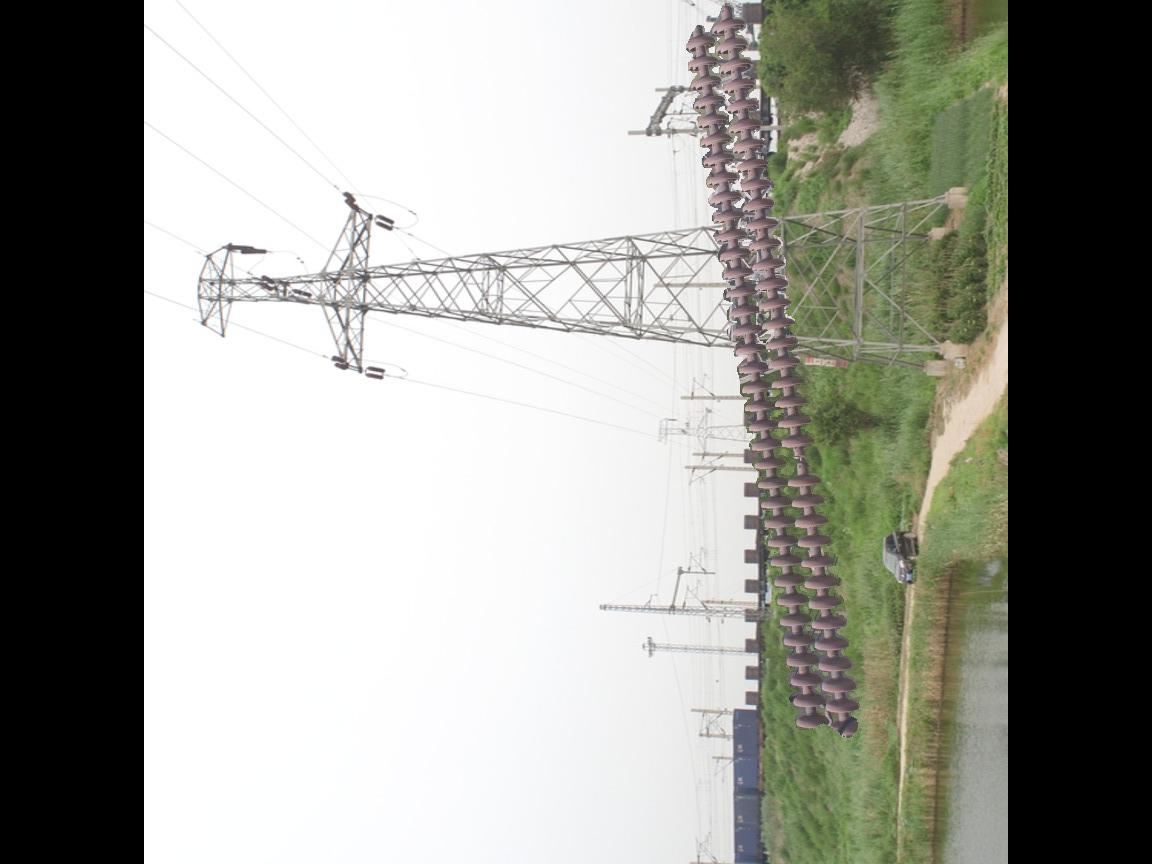insulator: (680, 6, 864, 743)
insulator_stringdrop: (779, 433, 824, 491)
